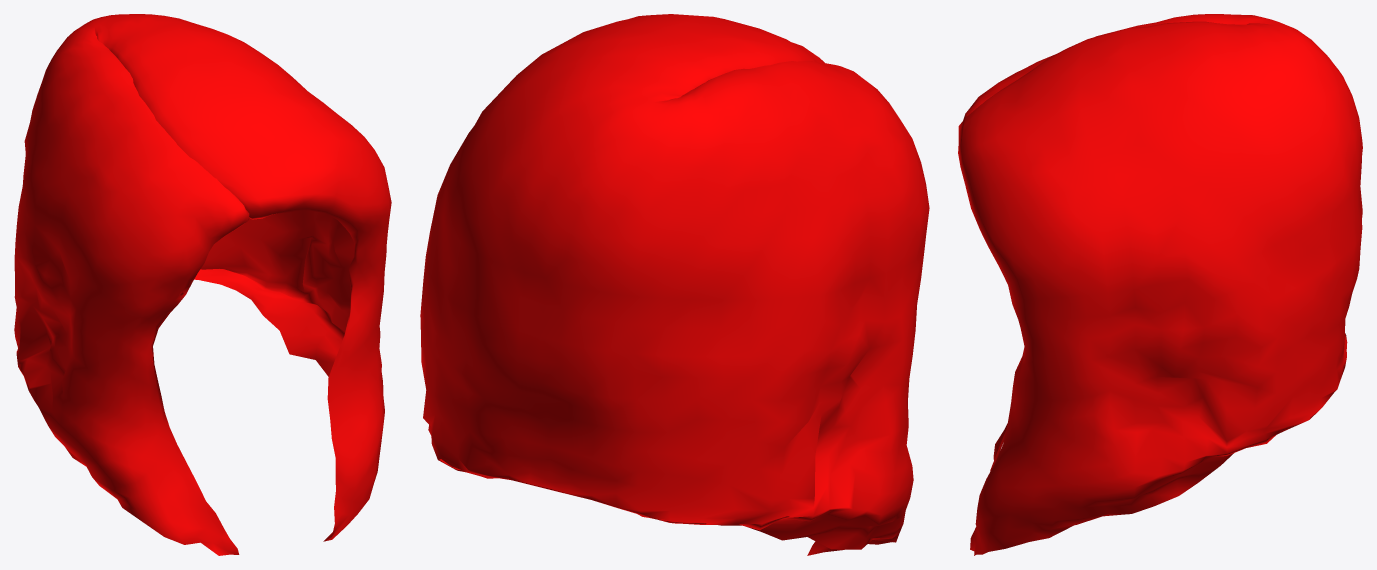
Rendered from toigo_inverted_bob_F.glb.
The picture shows the model from 3 angles, left to right: view 1: azimuth 30°, elevation 25°; view 2: azimuth 150°, elevation 25°; view 3: azimuth 270°, elevation 25°; orthographic projection. The views are drawn at different scales.
Size of the model in its own units: 0.1944 by 0.269 by 0.2028.
Materials: 1 (1 with a texture image).
